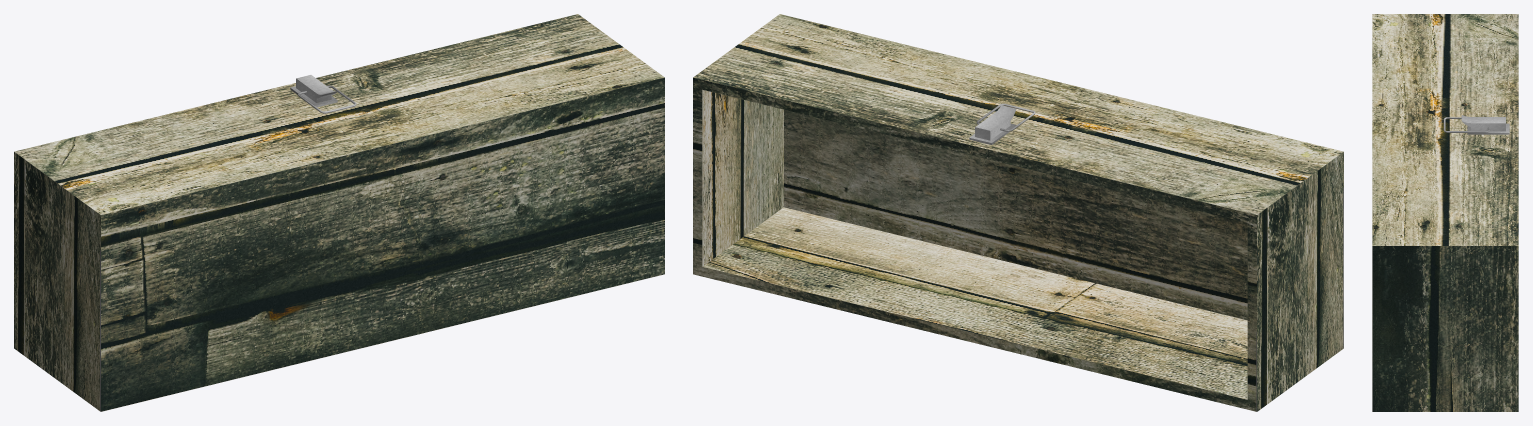
Rendered from crate.obj.
3 renders of one model, left to right at view 1: azimuth 30°, elevation 25°; view 2: azimuth 150°, elevation 25°; view 3: azimuth 270°, elevation 25°, orthographic. The views are drawn at different scales.
Parts seen in each view (by area): view 1: Bottom_Bottom.001; view 2: Bottom_Bottom.001; view 3: Bottom_Bottom.001.
Boxes of the visible parts, x1=… form: Bottom_Bottom.001: x1=14, y1=14, x2=664, y2=411; Bottom_Bottom.001: x1=693, y1=14, x2=1343, y2=411; Bottom_Bottom.001: x1=1372, y1=14, x2=1518, y2=411.
Bounding box in the file's own units: 15 × 5.37 × 4.
